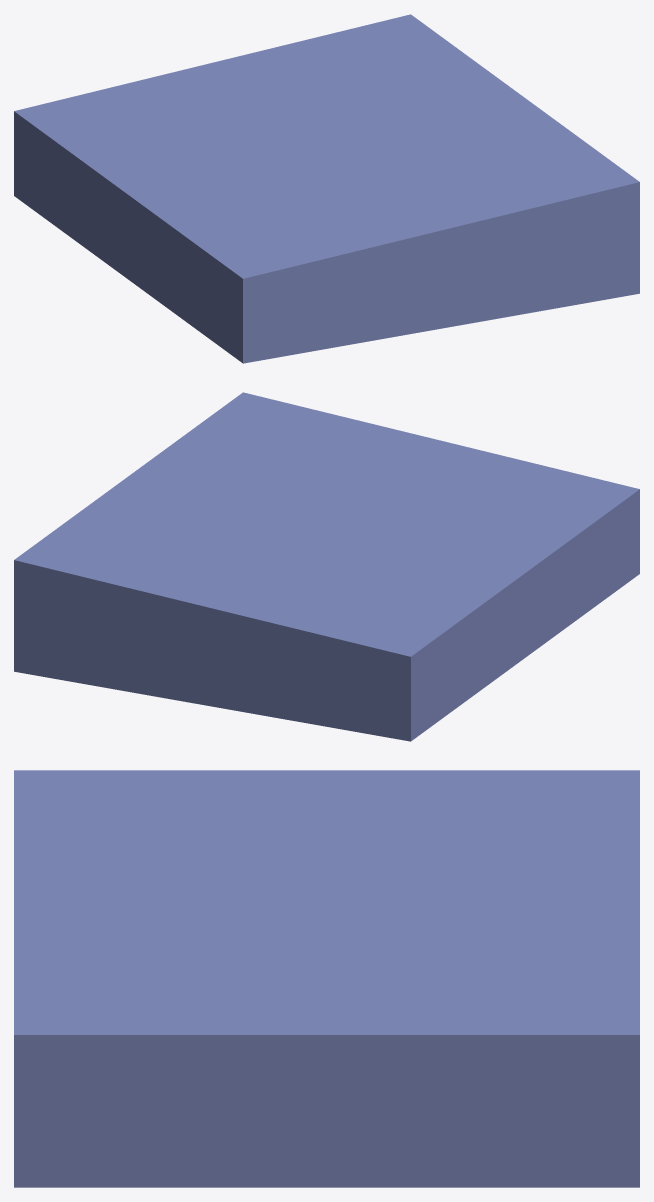
Rendered from bridge_arch_1a_detail.fbx.
3 renders of one model, top to bottom at view 1: azimuth 30°, elevation 25°; view 2: azimuth 150°, elevation 25°; view 3: azimuth 270°, elevation 25°, orthographic. The views are drawn at different scales.
Visible parts, largest first — view 1: bridge_arch_1a_detail; view 2: bridge_arch_1a_detail; view 3: bridge_arch_1a_detail.
Part boxes in pixels (x1,y1,x2,y2): bridge_arch_1a_detail: [14, 14, 639, 363]; bridge_arch_1a_detail: [14, 392, 639, 741]; bridge_arch_1a_detail: [14, 770, 639, 1187].
Bounding box in the file's own units: 0.98 × 0.2634 × 0.98.
